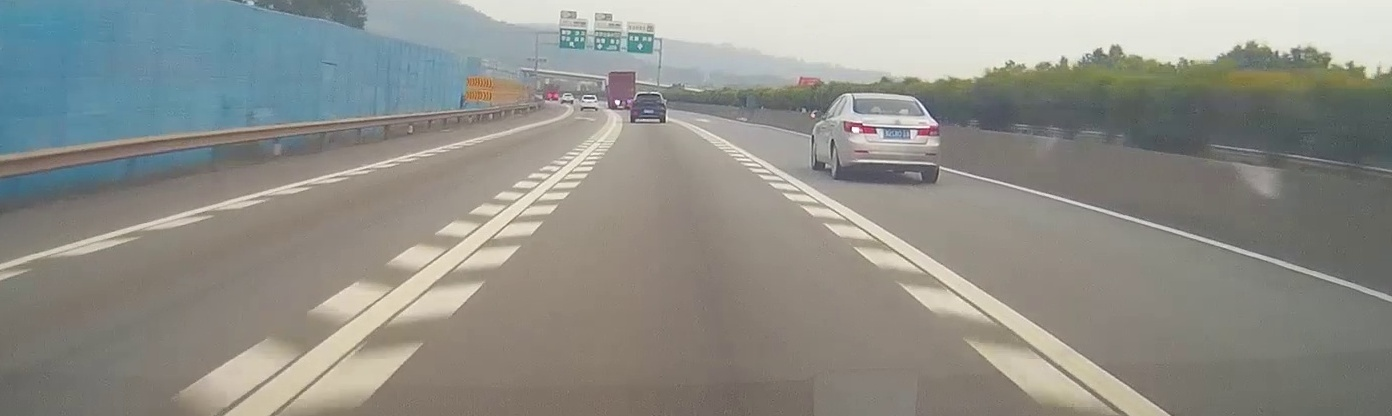L_light: (843, 121, 877, 133)
R_light: (917, 125, 940, 136)
T_light: (882, 99, 896, 102)
day-left: (842, 94, 942, 183)
